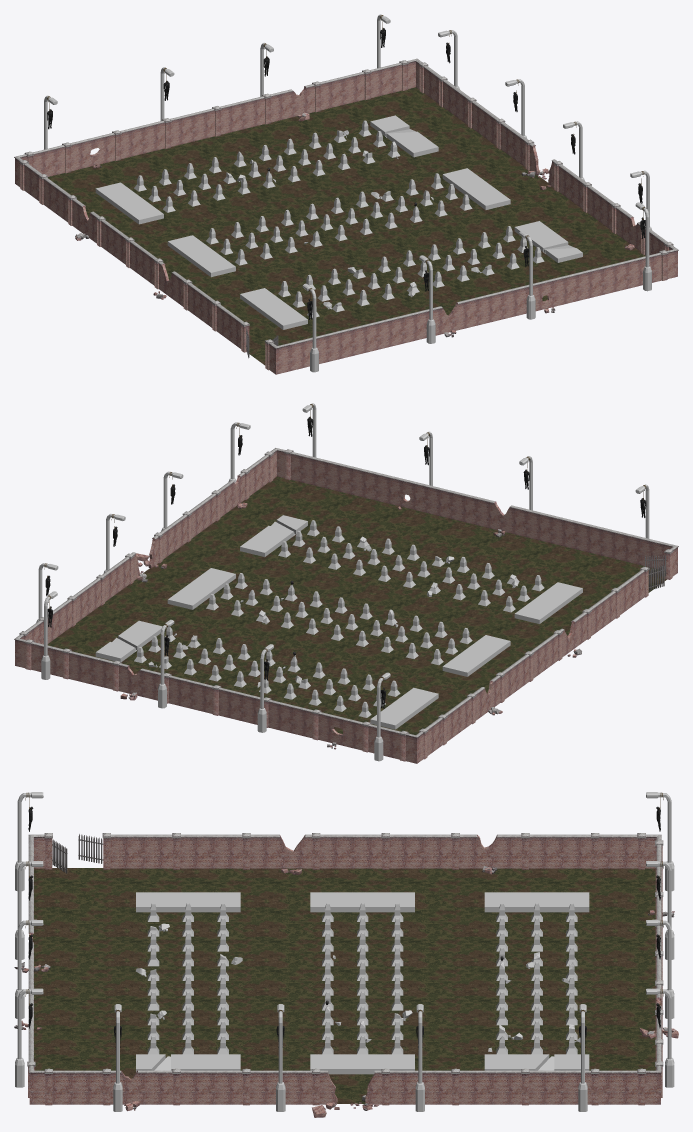
File: Cementerio.fbx
3 renders of one model, top to bottom at view 1: azimuth 30°, elevation 25°; view 2: azimuth 150°, elevation 25°; view 3: azimuth 270°, elevation 25°, orthographic. The views are drawn at different scales.
Parts seen in each view (by area): view 1: Suelo, Tumbas, Muros, Farolas, Escombros; view 2: Suelo, Tumbas, Muros, Farolas, Escombros, Puertas; view 3: Suelo, Tumbas, Muros, Farolas, Escombros, Puertas.
Part boxes in pixels (bbox=[...]): Suelo: bbox=[48, 87, 645, 365]; Tumbas: bbox=[95, 115, 582, 329]; Muros: bbox=[14, 58, 678, 374]; Farolas: bbox=[44, 14, 652, 372]; Escombros: bbox=[75, 112, 634, 337]; Suelo: bbox=[47, 476, 666, 735]; Tumbas: bbox=[95, 515, 582, 729]; Muros: bbox=[14, 448, 678, 763]; Farolas: bbox=[36, 403, 649, 761]; Escombros: bbox=[120, 502, 581, 749]; Puertas: bbox=[645, 555, 667, 590]; Suelo: bbox=[33, 868, 655, 1103]; Tumbas: bbox=[136, 892, 589, 1074]; Muros: bbox=[27, 833, 663, 1105]; Farolas: bbox=[15, 792, 674, 1111]; Escombros: bbox=[14, 866, 678, 1117]; Puertas: bbox=[52, 834, 103, 873].
Size of the model in its own units: 105 by 18.81 by 114.
